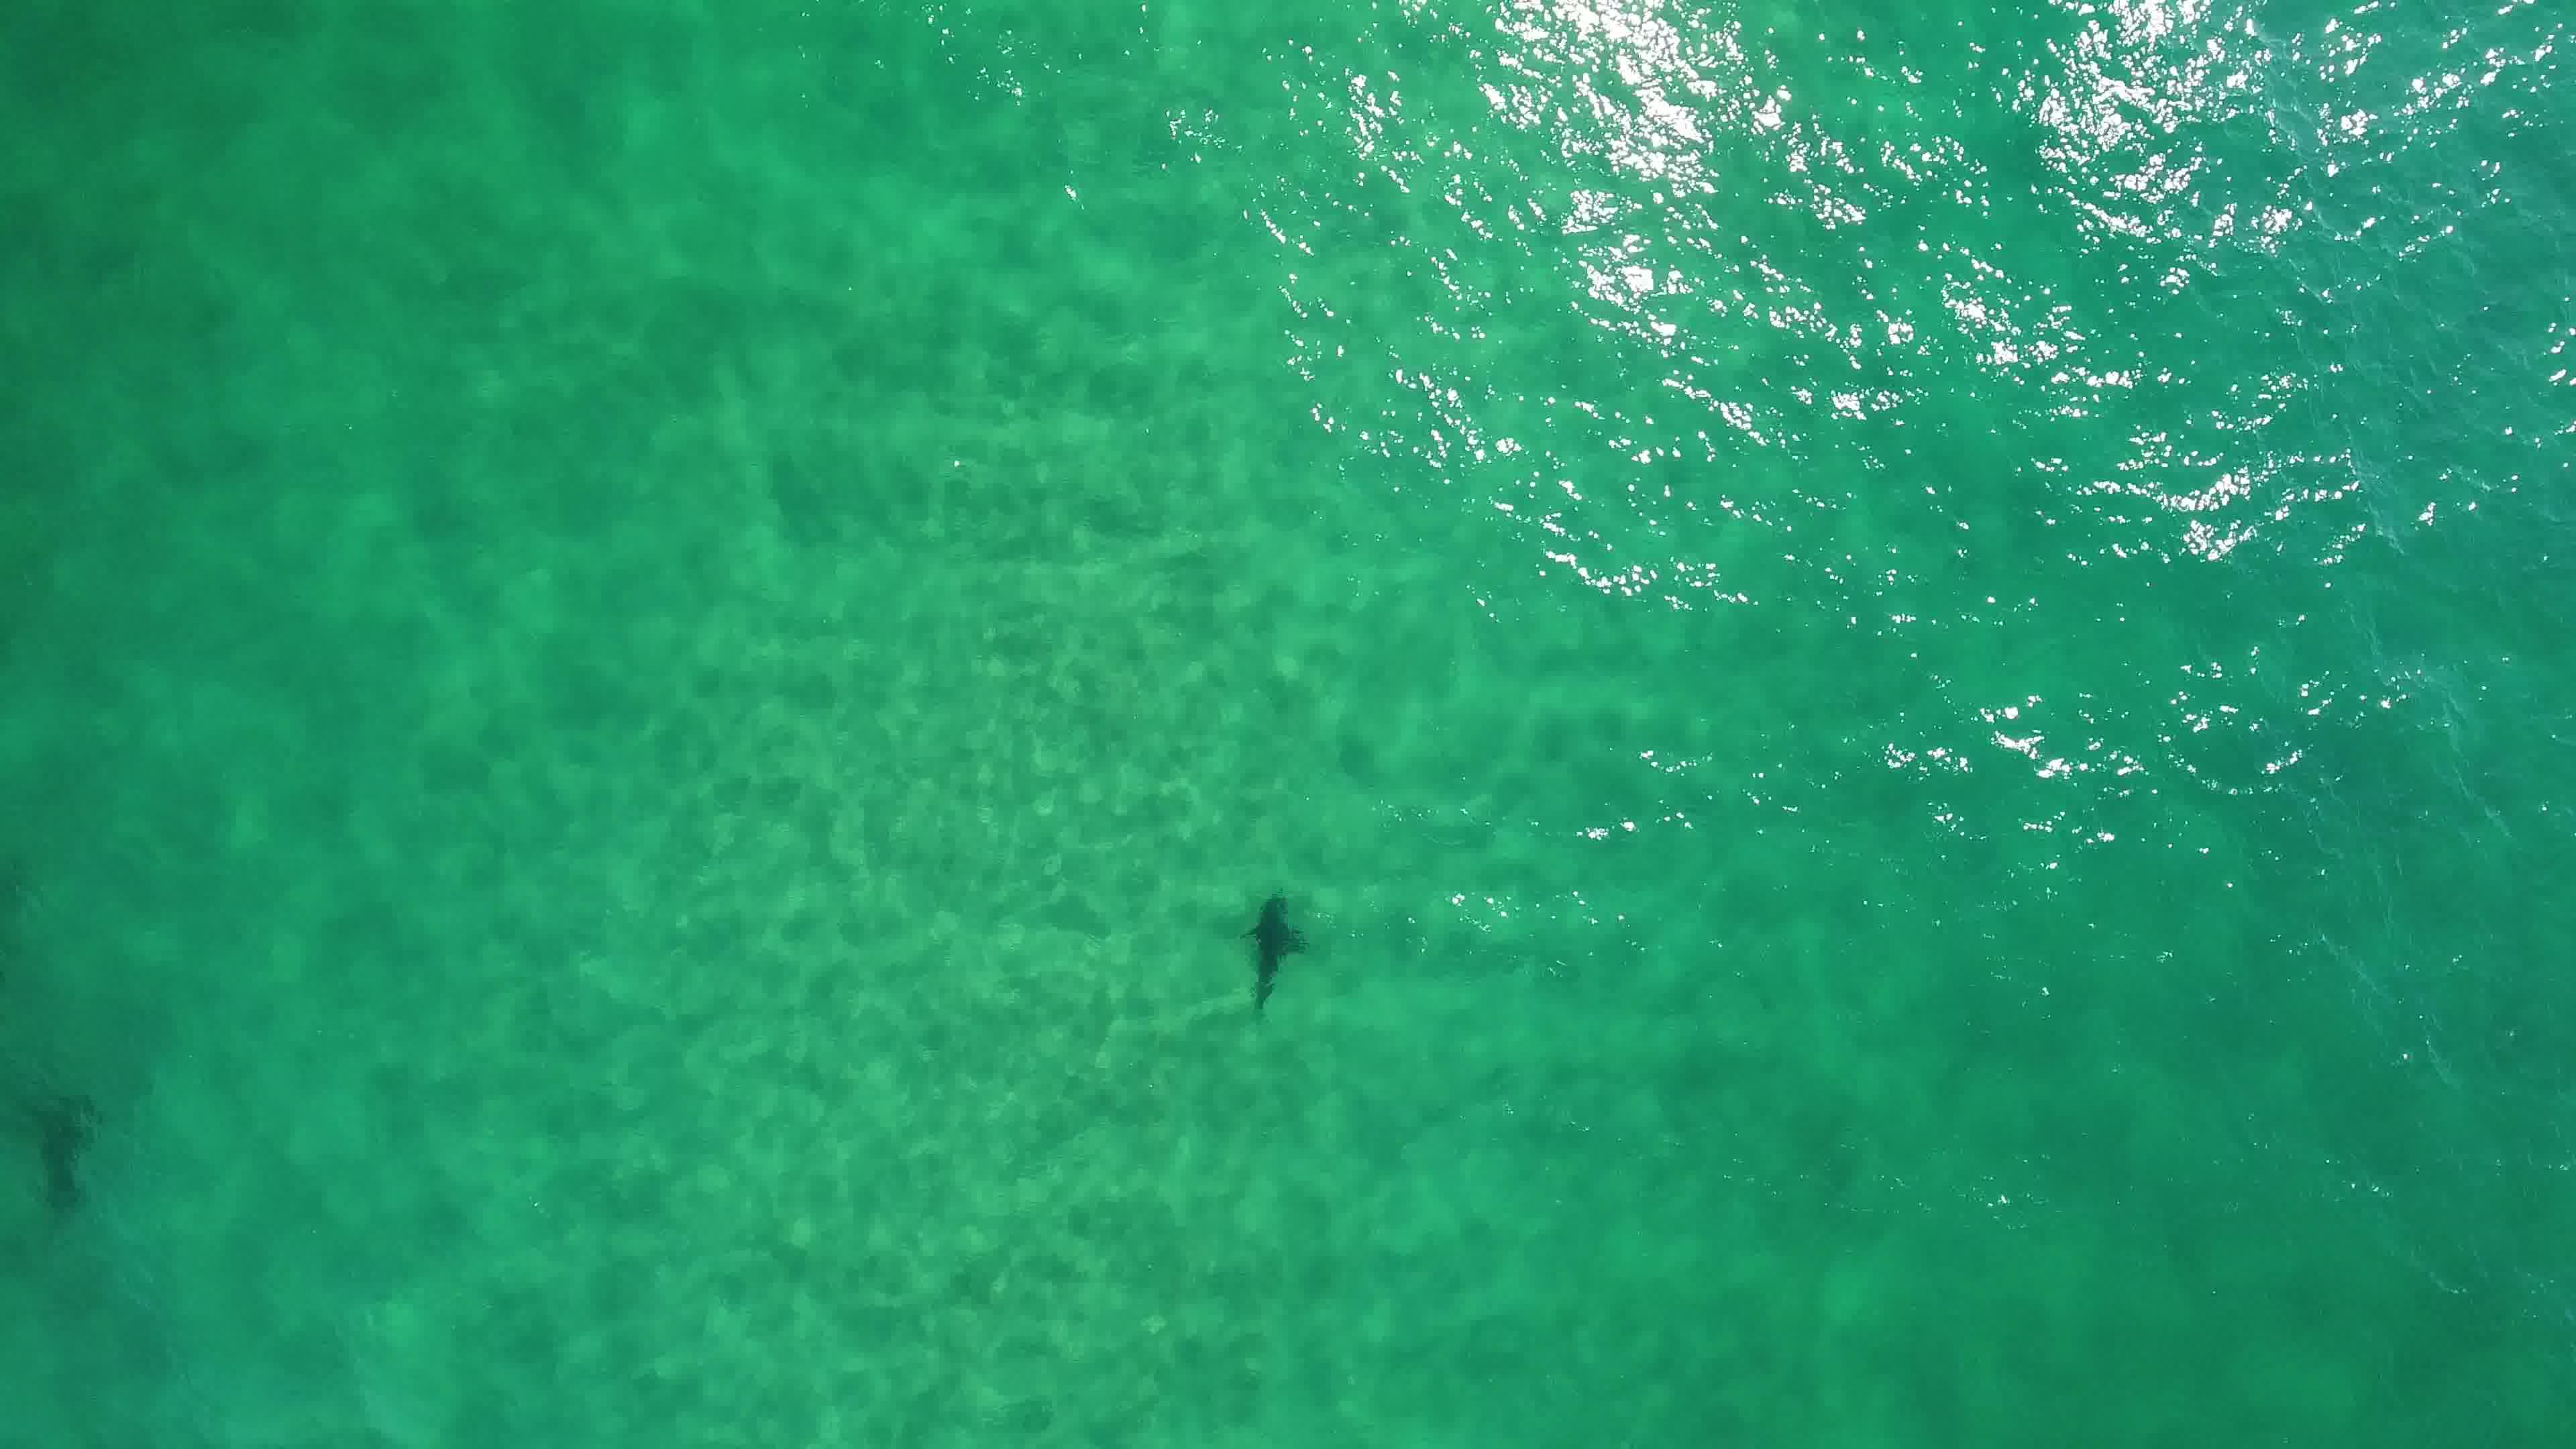shark: (1231, 892, 1316, 1016)
